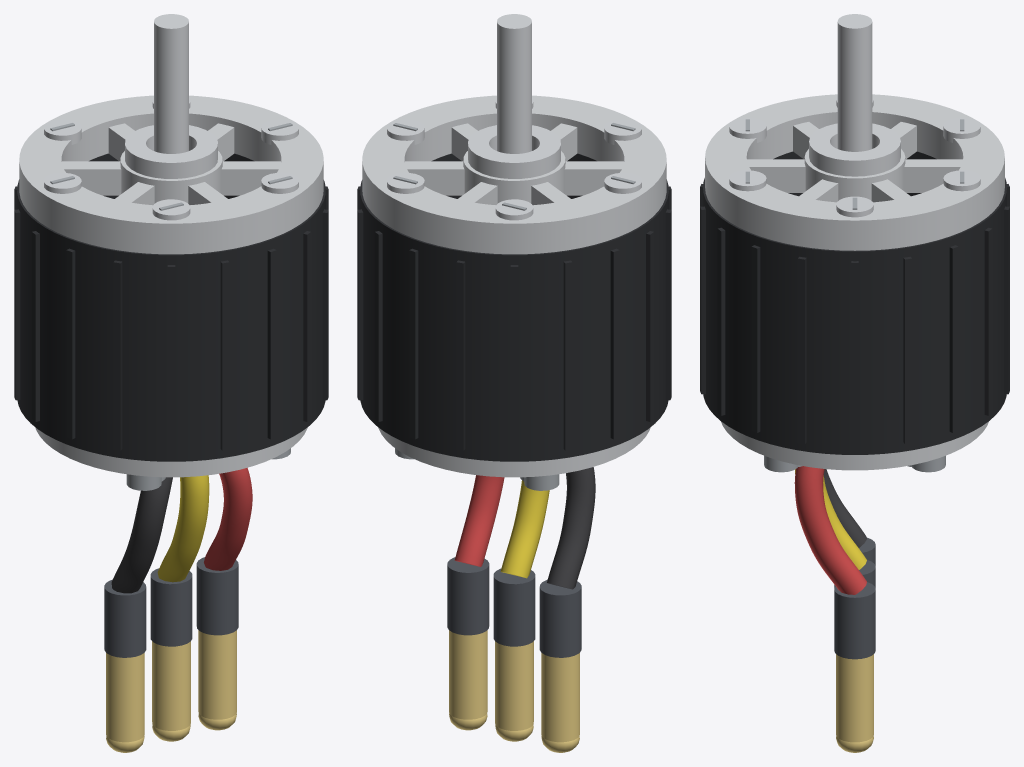
Rendered from motor.glb.
3 views of the same model, side by side, from view 1: azimuth 30°, elevation 25°; view 2: azimuth 150°, elevation 25°; view 3: azimuth 270°, elevation 25° (orthographic).
Parts seen in each view (by area): view 1: MotorBrushless; view 2: MotorBrushless; view 3: MotorBrushless.
Boxes of the visible parts, left/top/right/bottom form: MotorBrushless: left=14, top=14, right=328, bottom=752; MotorBrushless: left=357, top=14, right=671, bottom=752; MotorBrushless: left=700, top=14, right=1009, bottom=752.
Size of the model in its own units: 0.0286 by 0.0713 by 0.0283.
